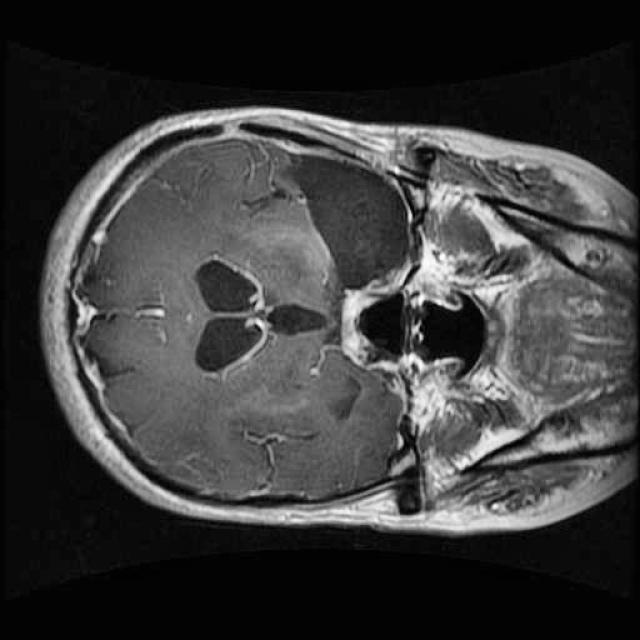Tumor: (274, 132, 438, 306)
